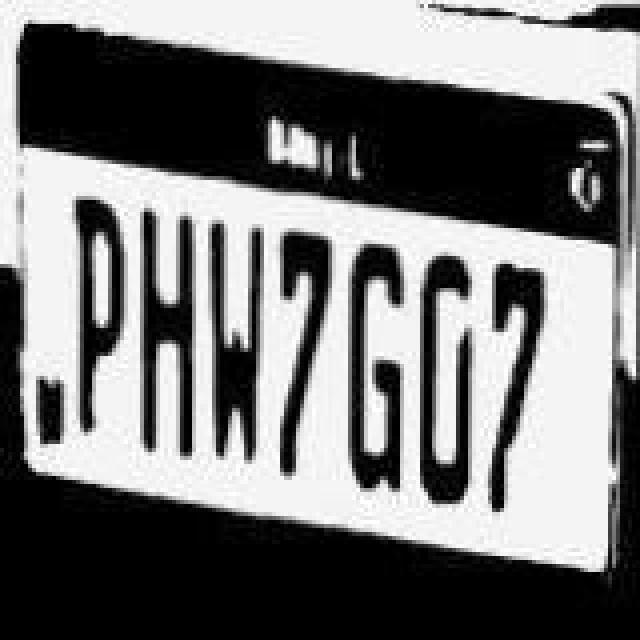7: (480, 256, 556, 520), (278, 230, 342, 486)
D: (420, 256, 480, 516)
G: (352, 240, 412, 516)
H: (132, 206, 200, 450)
P: (66, 196, 130, 444)
W: (206, 218, 262, 458)
